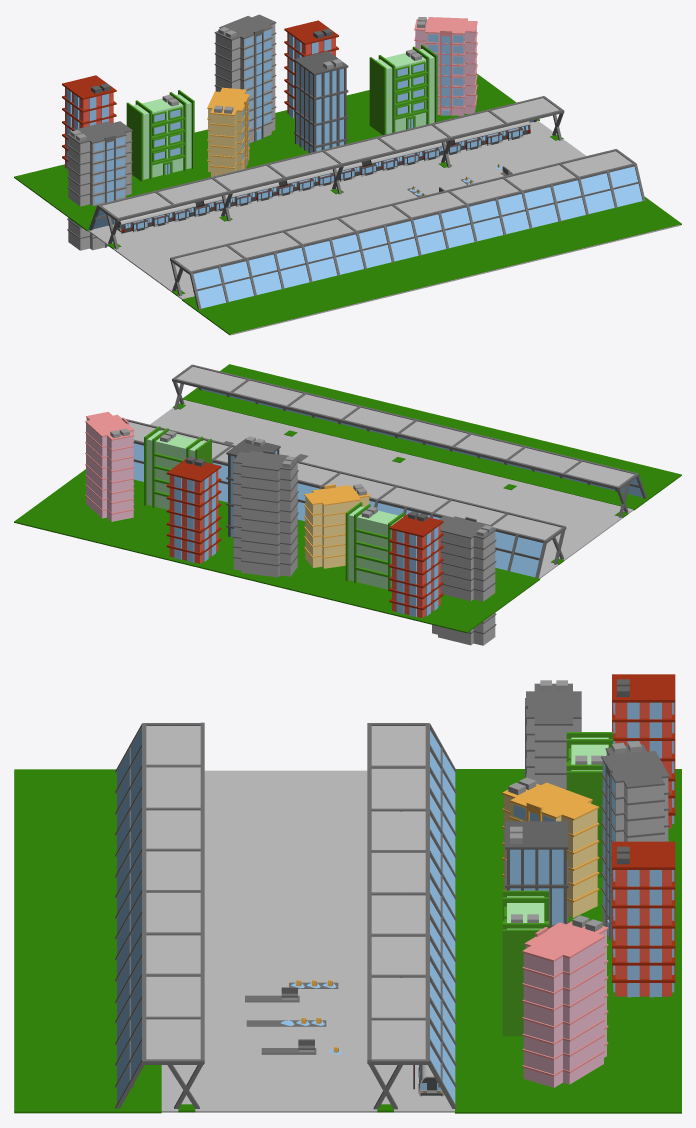
File: Trainsitioninator.fbx
The picture shows the model from 3 angles, top to bottom: view 1: azimuth 30°, elevation 25°; view 2: azimuth 150°, elevation 25°; view 3: azimuth 270°, elevation 25°; orthographic projection. The views are drawn at different scales.
Parts seen in each view (by area): view 1: pCube1915, pCube1916, pCube2175, pCube1917, pCube2089, pCube1994, Building_C_Tallest9, Building_C_Tallest10, Building_D9, Building_D8, Building_A5, Building_C_Taller7 (+7 smaller); view 2: pCube1915, pCube1917, pCube1916, Building_C_Tallest10, pCube2089, Building_C_Tallest9, Building_B8, Building_B7, Building_C_Taller7, pCube1994, Building_C7, Building_D8 (+6 smaller); view 3: pCube1915, pCube1916, pCube1917, pCube2089, pCube1994, Building_C_Taller7, Building_B8, Building_C_Tallest10, pCube2175, pCube2176, Building_C7, Building_B7 (+7 smaller).
Boxes of the visible parts, bbox=[...] form: pCube1915: bbox=[88, 120, 680, 335]; pCube1916: bbox=[182, 197, 681, 335]; pCube2175: bbox=[193, 166, 642, 308]; pCube1917: bbox=[14, 73, 539, 231]; pCube2089: bbox=[174, 151, 632, 271]; pCube1994: bbox=[102, 98, 559, 217]; Building_C_Tallest9: bbox=[67, 121, 132, 250]; Building_C_Tallest10: bbox=[214, 14, 276, 143]; Building_D9: bbox=[369, 44, 437, 134]; Building_D8: bbox=[126, 90, 194, 181]; Building_A5: bbox=[294, 51, 348, 152]; Building_C_Taller7: bbox=[414, 17, 477, 115]; pCube1915: bbox=[150, 400, 633, 578]; pCube1917: bbox=[14, 469, 540, 633]; pCube1916: bbox=[183, 364, 681, 510]; Building_C_Tallest10: bbox=[232, 450, 298, 577]; pCube2089: bbox=[176, 366, 634, 486]; Building_C_Tallest9: bbox=[432, 516, 496, 645]; Building_B8: bbox=[166, 456, 221, 563]; Building_B7: bbox=[389, 511, 443, 617]; Building_C_Taller7: bbox=[85, 411, 134, 521]; pCube1994: bbox=[129, 422, 561, 539]; Building_C7: bbox=[304, 484, 370, 568]; Building_D8: bbox=[345, 502, 404, 591]; pCube1915: bbox=[14, 770, 454, 1112]; pCube1916: bbox=[14, 769, 161, 1113]; pCube1917: bbox=[455, 769, 681, 1113]; pCube2089: bbox=[146, 726, 200, 1059]; pCube1994: bbox=[371, 726, 425, 1059]; Building_C_Taller7: bbox=[522, 915, 608, 1087]; Building_B8: bbox=[612, 841, 675, 997]; Building_C_Tallest10: bbox=[601, 741, 669, 940]; pCube2175: bbox=[117, 728, 141, 1103]; pCube2176: bbox=[430, 730, 455, 1103]; Building_C7: bbox=[502, 777, 599, 917]; Building_B7: bbox=[612, 674, 675, 828].
Size of the model in its own units: 48.89 by 16.01 by 40.26.
Materials: 1 (1 with a texture image).
